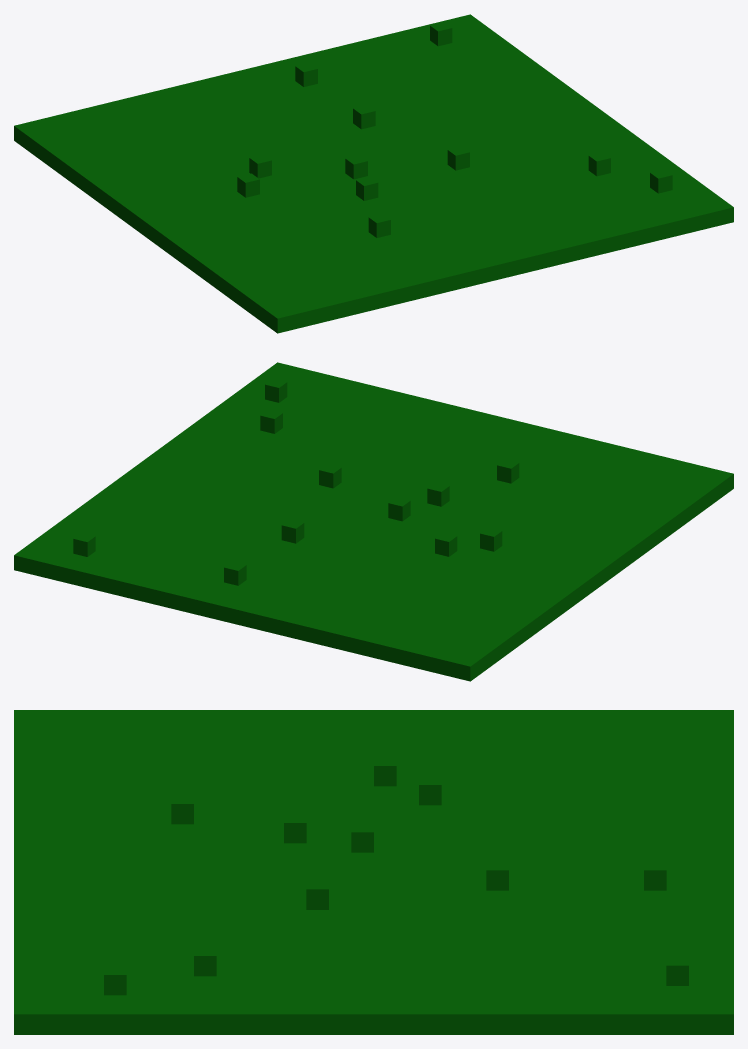
Rendered from env_grass1a.fbx.
3 renders of one model, top to bottom at view 1: azimuth 30°, elevation 25°; view 2: azimuth 150°, elevation 25°; view 3: azimuth 270°, elevation 25°, orthographic. The views are drawn at different scales.
Visible parts, largest first — view 1: env_grass1a; view 2: env_grass1a; view 3: env_grass1a.
Part boxes in pixels (<box>): env_grass1a: <box>14,14,733,333</box>; env_grass1a: <box>14,362,733,681</box>; env_grass1a: <box>14,710,733,1034</box>.
Size of the model in its own units: 3.2 by 3.2 by 0.2.
1 material, 1 textured.
